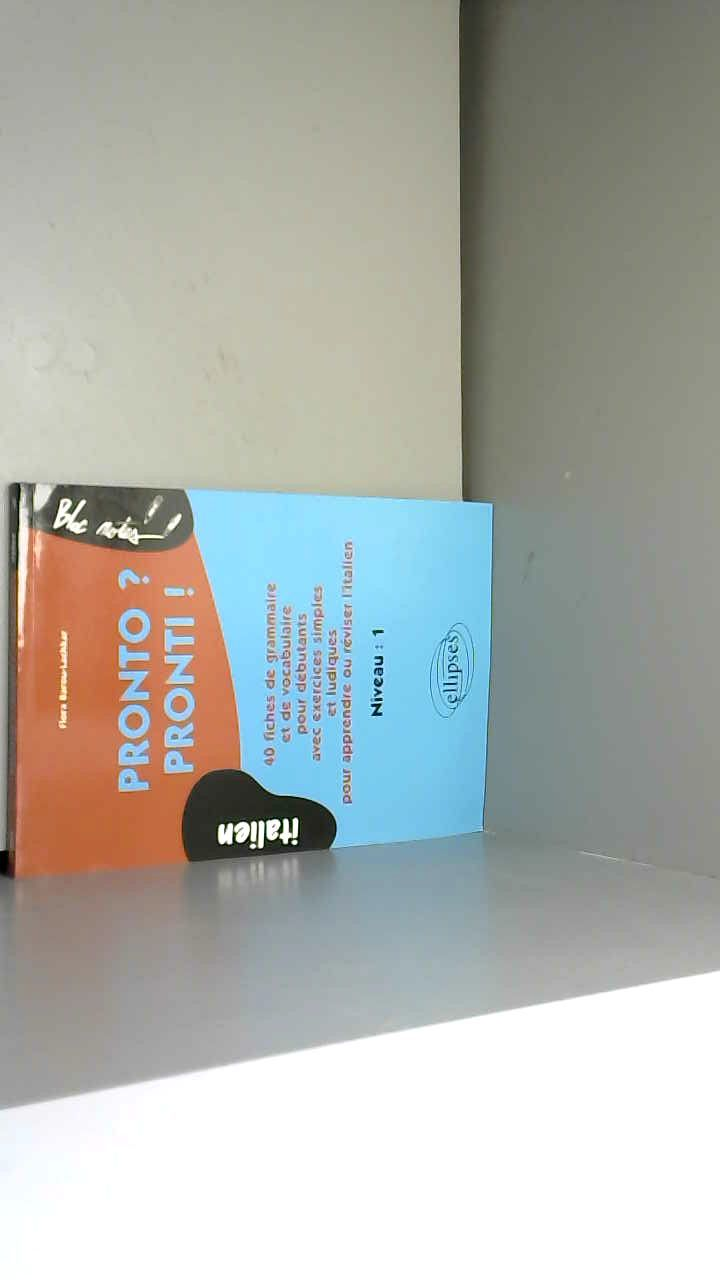book: (0, 435, 519, 905)
